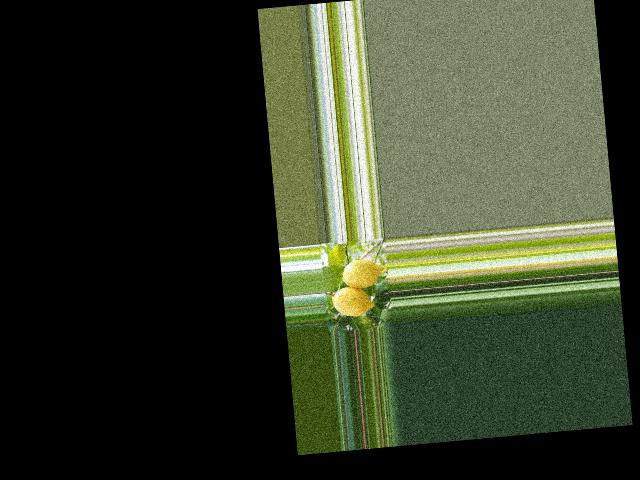lemon: (338, 254, 384, 292)
